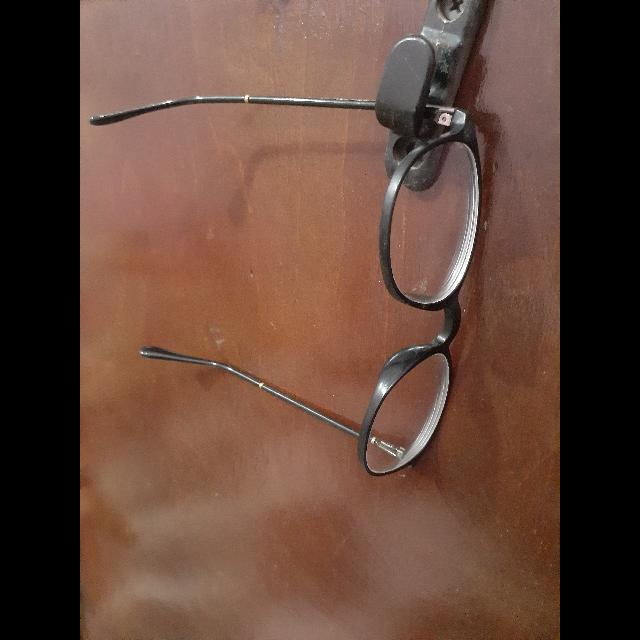glasses: (94, 87, 496, 475)
